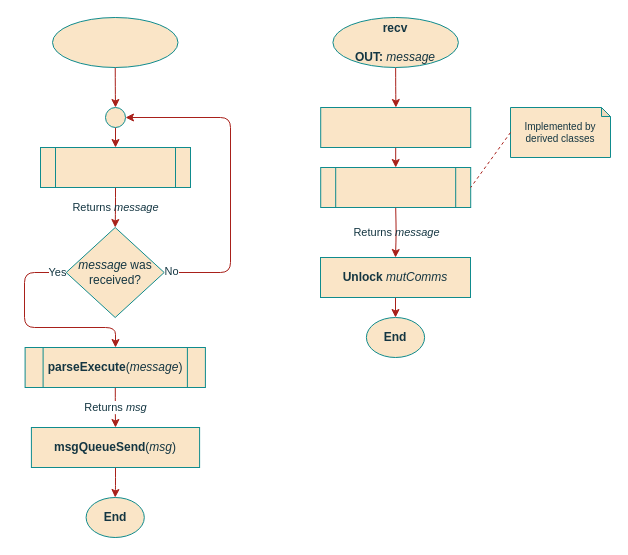
This 628x555 diagram has some shape labels left out. Each missing label, with the centre of its shape:
Lock mutComms: (395,127)
recv (): (115,167)
recvFunc (): (395,187)
tRecv: (115,42)
